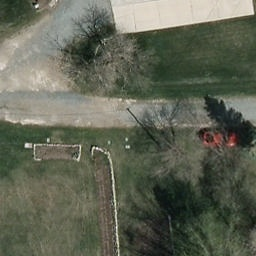car: (198, 128, 249, 147)
